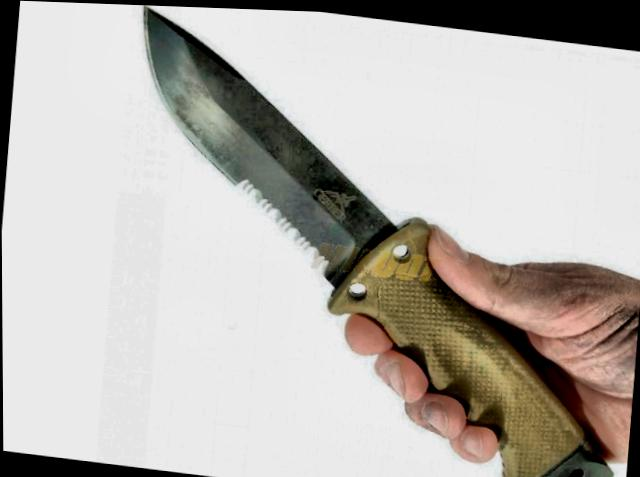knife: (95, 3, 533, 461)
